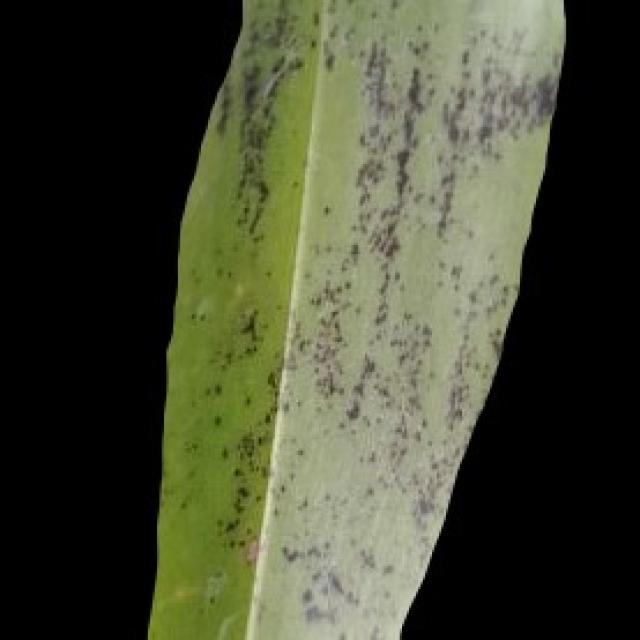mite: (183, 298, 280, 555), (199, 377, 226, 430), (199, 566, 226, 608), (238, 307, 261, 340), (229, 481, 252, 513), (213, 511, 240, 536), (199, 377, 226, 400), (206, 407, 226, 430), (317, 196, 335, 219), (222, 515, 240, 534), (263, 367, 277, 390), (233, 483, 250, 499), (217, 441, 231, 460), (183, 437, 199, 453), (210, 411, 222, 427), (210, 379, 222, 395)
